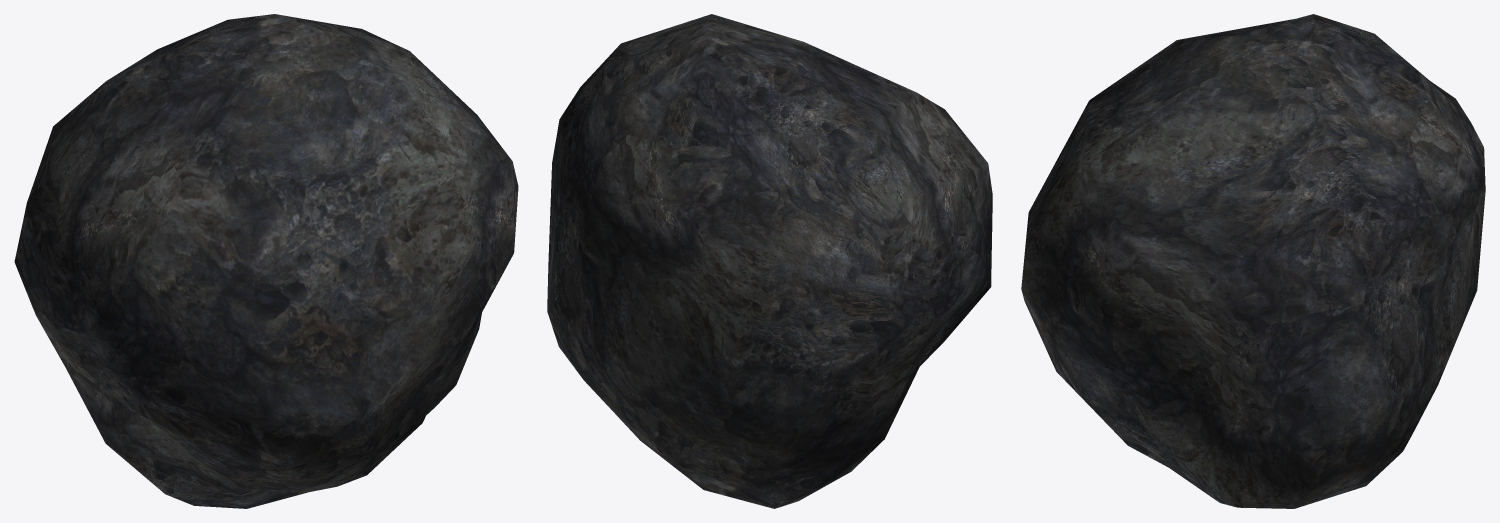
Rendered from stg600_obj_meteoriteB02.obj.
The picture shows the model from 3 angles, left to right: view 1: azimuth 30°, elevation 25°; view 2: azimuth 150°, elevation 25°; view 3: azimuth 270°, elevation 25°; orthographic projection. The views are drawn at different scales.
Visible parts, largest first — view 1: polygon0; view 2: polygon0; view 3: polygon0.
Boxes of the visible parts, bbox=[...] form: polygon0: bbox=[14, 14, 518, 508]; polygon0: bbox=[547, 14, 992, 508]; polygon0: bbox=[1021, 14, 1485, 508].
Bounding box in the file's own units: 89.79 × 97.31 × 86.99.
Materials: 1 (1 with a texture image).
